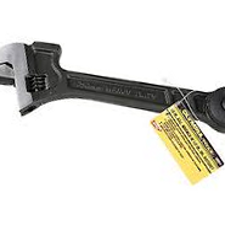wrench: (1, 32, 225, 144)
